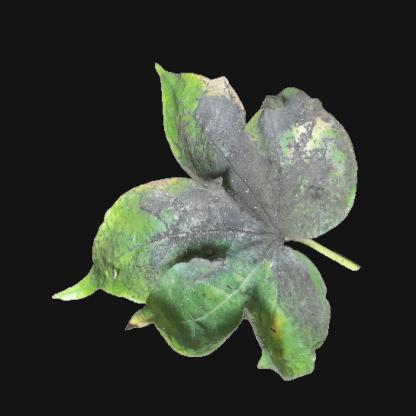curl_stage1: (279, 337, 309, 378), (167, 74, 199, 101), (262, 313, 288, 346), (117, 212, 145, 236)
sooty: (197, 102, 327, 304), (143, 185, 197, 269), (326, 144, 351, 216)
